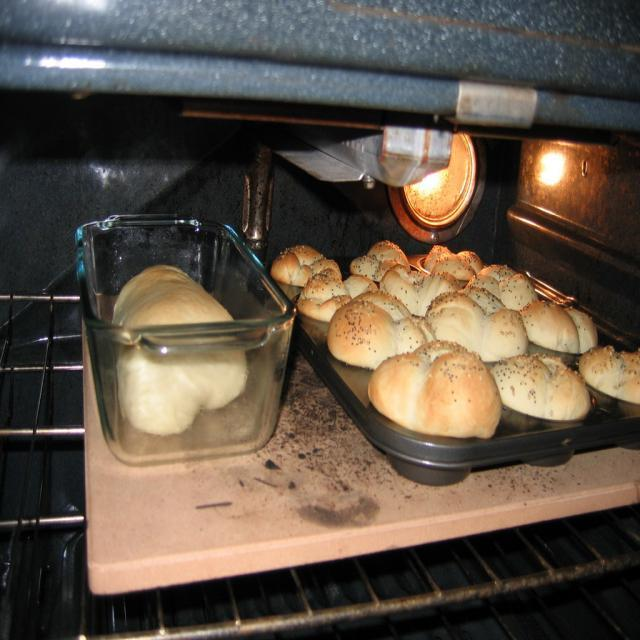Pancake: (369, 338, 500, 434)
